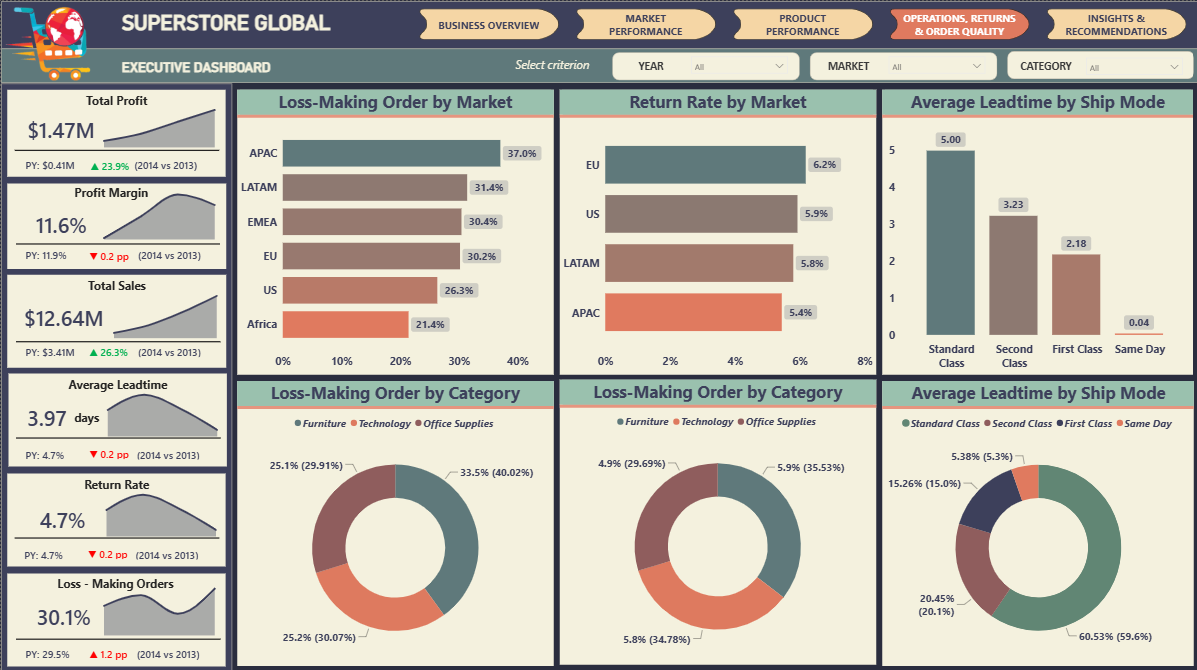

This screenshot's page, from the dashboard's own definition file:
{"tool":"powerbi","page":{"name":"OPERATIONS, RETURNS & ORDER QUALITY","canvas":[1920,1080],"ordinal":3},"visuals":[{"type":"shape","box":[0,0,1920.5,77],"z":0},{"type":"shape","box":[977.5,80.7,300,45],"z":0,"group":"g1"},{"type":"textbox","box":[188.9,0,355.8,75.2],"z":1000,"group":"g13"},{"type":"shape","box":[0,76.7,1920,55],"z":1000},{"type":"textbox","box":[989.7,87.6,100,34.4],"z":1000,"group":"g1"},{"type":"shape","box":[10.2,143.6,349.4,139.3],"z":1000,"group":"g3"},{"type":"shape","box":[10.2,293.1,350.7,137.1],"z":1000,"group":"g4"},{"type":"shape","box":[10,438.8,350.6,148.9],"z":1000,"group":"g10"},{"type":"shape","box":[11.8,595.2,349.4,149.1],"z":1000,"group":"g7"},{"type":"shape","box":[11.5,756.1,349.4,149.1],"z":1000,"group":"g8"},{"type":"shape","box":[10,915.5,349.4,148.8],"z":1000,"group":"g9"},{"type":"slicer","fields":{"Values":["Dim - Date.Year"]},"box":[1094.2,84.3,174.4,36.7],"z":2000,"group":"g1"},{"type":"textbox","box":[818.9,84.4,141.1,40],"z":2000},{"type":"textbox","box":[188.9,77,262.3,55],"z":3000,"group":"g13"},{"type":"shape","box":[1292.8,80.7,300,45],"z":3000,"group":"g1"},{"type":"shape","box":[0,132,370,946],"z":3000},{"type":"group","id":"g1","title":"Group 2","box":[977.5,79.7,932,46],"z":4000},{"type":"textbox","box":[1305.1,86.9,100,34.4],"z":4000,"group":"g1"},{"type":"slicer","fields":{"Values":["Fact - Orders.Market"]},"box":[1409.5,83.6,174.4,36.7],"z":5000,"group":"g1"},{"type":"textbox","box":[10,143.5,350,34.8],"z":5000,"group":"g3"},{"type":"textbox","box":[10,288.6,332.7,41.5],"z":5000,"group":"g4"},{"type":"textbox","box":[10,438.8,350.6,35],"z":5000,"group":"g10"},{"type":"textbox","box":[11.6,595,350,38],"z":5000,"group":"g7"},{"type":"donutChart","title":"Average Leadtime by Ship Mode","fields":{"Category":["Fact - Orders.Ship Mode"],"Y":["Measure.Ship Mode Mix %"]},"box":[1410,608,500,456],"z":5000},{"type":"textbox","box":[11.3,755.9,350,38],"z":5000,"group":"g8"},{"type":"textbox","box":[8.8,915.2,350,35],"z":5000,"group":"g9"},{"type":"shape","box":[1608.8,79.7,300,45],"z":6000,"group":"g1"},{"type":"group","id":"g2","title":"Group 3","box":[10,142.9,350,150],"z":6000},{"type":"group","id":"g3","title":"Group 1","box":[10,142.9,350,140],"z":6000,"group":"g2"},{"type":"group","id":"g4","title":"Group 1","box":[10,288.6,350.9,141.6],"z":6000,"group":"g5"},{"type":"textbox","box":[1621.1,88.3,100,34.4],"z":7000,"group":"g1"},{"type":"group","id":"g5","title":"Group 4","box":[10,288.6,351.4,150],"z":7000},{"type":"slicer","fields":{"Values":["Dim - Product.Category"]},"box":[1725.5,84.9,174.4,36.7],"z":8000,"group":"g1"},{"type":"group","id":"g6","title":"Group 5","box":[10,438.8,351.3,150],"z":8000},{"type":"group","id":"g7","title":"Group 1","box":[11.6,595,350,149.3],"z":9000,"group":"g12"},{"type":"group","id":"g8","title":"Group 1","box":[11.3,755.9,350,149.3],"z":9000,"group":"g11"},{"type":"group","id":"g9","title":"Group 1","box":[8.8,914.3,350.6,150],"z":9000},{"type":"shape","box":[23.8,1007.5,327.5,26.2],"z":10000},{"type":"group","id":"g10","title":"Group 1","box":[10,438.8,350.6,148.9],"z":11000,"group":"g6"},{"type":"cardVisual","fields":{"Data":["Measure.Loss PY Text"]},"box":[10,1007.5,145,70],"z":11000},{"type":"areaChart","fields":{"Category":["Dim - Date.Year Hierarchy.Year"],"Y":["Measure.Total Sales"]},"box":[167,438.9,194.3,106.7],"z":12000,"group":"g6"},{"type":"cardVisual","fields":{"Data":["Measure.Loss YoY Text"]},"box":[111.2,1007.5,143.8,70],"z":12000},{"type":"cardVisual","fields":{"Data":["Measure.Loss Period"]},"box":[187.5,1007.5,163.8,70],"z":13000},{"type":"shape","box":[23.4,378.6,326.7,21.5],"z":14000,"group":"g5"},{"type":"group","id":"g11","title":"Group 3","box":[8.8,755.9,352.5,156.4],"z":14000},{"type":"shape","box":[22.9,229.2,327.1,22],"z":15000,"group":"g2"},{"type":"shape","box":[24.1,533.9,327.1,22.3],"z":15000,"group":"g6"},{"type":"group","id":"g12","title":"Group 3","box":[9.1,595,352.5,156.4],"z":15000},{"type":"areaChart","fields":{"Category":["Dim - Date.Year Hierarchy.Year"],"Y":["Measure.Return Rate %"]},"box":[154.1,600.1,205,100],"z":15000,"group":"g12"},{"type":"areaChart","fields":{"Category":["Dim - Date.Year Hierarchy.Year"],"Y":["Measure.Return Rate %"]},"box":[153.8,761,205,100],"z":15000,"group":"g11"},{"type":"cardVisual","fields":{"Data":["Measure.Total Profit"]},"box":[14.4,168.1,164.3,73.1],"z":16000,"group":"g3"},{"type":"cardVisual","fields":{"Data":["Measure.Profit Margin %"]},"box":[14.4,322.7,165.7,68],"z":16000,"group":"g4"},{"type":"cardVisual","fields":{"Data":["Measure.Total Sales"]},"box":[18.4,467.5,165.7,77.4],"z":16000,"group":"g10"},{"type":"cardVisual","fields":{"Data":["Measure.Average Leadtime"]},"box":[20.9,626.2,103.8,73.8],"z":16000,"group":"g7"},{"type":"textbox","box":[112.5,648.8,58.8,42.5],"z":16000},{"type":"cardVisual","fields":{"Data":["Measure.Return Rate %"]},"box":[19.9,789,161.4,76.9],"z":16000,"group":"g8"},{"type":"cardVisual","fields":{"Data":["Measure.Loss-Making Order %"]},"box":[20,946.7,161.4,76.8],"z":16000,"group":"g9"},{"type":"clusteredBarChart","title":"Loss-Making Order by Market","fields":{"Category":["Fact - Orders.Market"],"Y":["Measure.Loss-Making Order %"]},"box":[378,142,506,456],"z":17000},{"type":"cardVisual","fields":{"Data":["Measure.Margin PY Text"]},"box":[10,375.1,144.5,62.3],"z":18000,"group":"g5"},{"type":"donutChart","title":"Loss-Making Order by Category","fields":{"Category":["Dim - Product.Category"],"Y":["Measure.Loss-Making Order %"]},"box":[378,608,506,456],"z":18000},{"type":"areaChart","fields":{"Category":["Dim - Date.Year Hierarchy.Year"],"Y":["Measure.Total Profit"]},"box":[150.1,142.9,207.1,97.4],"z":18001,"group":"g3"},{"type":"areaChart","fields":{"Category":["Dim - Date.Year Hierarchy.Year"],"Y":["Measure.Profit Margin %"]},"box":[150,292,207.2,95],"z":18001,"group":"g4"},{"type":"areaChart","fields":{"Category":["Dim - Date.Year Hierarchy.Year"],"Y":["Measure.Loss-Making Order %"]},"box":[151.5,914.3,207.1,106.3],"z":18001,"group":"g9"},{"type":"clusteredBarChart","title":"Return Rate by Market","fields":{"Category":["Fact - Orders.Market"],"Y":["Measure.Return Rate %"]},"box":[894,142,506,456],"z":19000},{"type":"cardVisual","fields":{"Data":["Measure.Margin YoY"]},"box":[112.7,374.1,144.5,64.2],"z":19000,"group":"g5"},{"type":"cardVisual","fields":{"Data":["Measure.Profit PY Text"]},"box":[10.9,231.6,144.5,61.3],"z":20000,"group":"g2"},{"type":"cardVisual","fields":{"Data":["Measure.Margin Period"]},"box":[189.1,375.1,163.6,62.3],"z":20000,"group":"g5"},{"type":"donutChart","title":"Loss-Making Order by Category","fields":{"Category":["Dim - Product.Category"],"Y":["Measure.Return Rate %"]},"box":[894,606,506,456],"z":20000},{"type":"clusteredColumnChart","title":"Average Leadtime by Ship Mode","fields":{"Category":["Fact - Orders.Ship Mode"],"Y":["Measure.Average Leadtime"]},"box":[1410,142,498,456],"z":21000},{"type":"cardVisual","fields":{"Data":["Measure.Profit YoY Text"]},"box":[113.6,235,143.6,57.8],"z":21000,"group":"g2"},{"type":"cardVisual","fields":{"Data":["Measure.Sales PY Text"]},"box":[10.9,532.7,144.5,56.1],"z":21000,"group":"g6"},{"type":"shape","box":[22.9,687.6,327.5,22.5],"z":21000,"group":"g12"},{"type":"shape","box":[22.6,848.5,327.5,22.5],"z":21000,"group":"g11"},{"type":"pageNavigator","box":[662,12,1244,50],"z":22000},{"type":"cardVisual","fields":{"Data":["Measure.Profit Period"]},"box":[184.5,233.1,167.3,57.8],"z":22000,"group":"g2"},{"type":"cardVisual","fields":{"Data":["Measure.Sales YoY Text"]},"box":[111.8,532.7,144.5,54.2],"z":22000,"group":"g6"},{"type":"group","id":"g13","title":"Group 4","box":[0,0,544.8,132.1],"z":23000},{"type":"cardVisual","fields":{"Data":["Measure.Sales Period"]},"box":[189.1,532.7,162.7,55.1],"z":23000,"group":"g6"},{"type":"cardVisual","fields":{"Data":["Measure.Return PY Text"]},"box":[9.1,697.6,145,53.8],"z":32000,"group":"g12"},{"type":"cardVisual","fields":{"Data":["Measure.Return PY Text"]},"box":[8.8,858.5,145,53.8],"z":32000,"group":"g11"},{"type":"cardVisual","fields":{"Data":["Measure.Return YoY Text"]},"box":[110.7,697.6,146.2,52.5],"z":33000,"group":"g12"},{"type":"cardVisual","fields":{"Data":["Measure.Return YoY Text"]},"box":[110.4,858.5,146.2,52.5],"z":33000,"group":"g11"},{"type":"image","box":[0,0,188.9,132.1],"z":33001,"group":"g13"},{"type":"cardVisual","fields":{"Data":["Measure.Return Period"]},"box":[186.9,697.6,165,53.8],"z":34000,"group":"g12"},{"type":"cardVisual","fields":{"Data":["Measure.Return Period"]},"box":[186.6,858.5,165,53.8],"z":34000,"group":"g11"}]}

Visuals, with their boxes in screenshot pixels (x1, y1, x2, y2), scaled from the page's 1920x1080 canvas onto the 1197x670 screenshot:
shape: <region>0, 0, 1196, 48</region>
shape: <region>609, 50, 796, 78</region>
textbox: <region>118, 0, 340, 47</region>
shape: <region>0, 48, 1196, 82</region>
textbox: <region>617, 54, 679, 76</region>
shape: <region>6, 89, 224, 176</region>
shape: <region>6, 182, 225, 267</region>
shape: <region>6, 272, 225, 365</region>
shape: <region>7, 369, 225, 462</region>
shape: <region>7, 469, 225, 562</region>
shape: <region>6, 568, 224, 660</region>
slicer - Dim - Date.Year: <region>682, 52, 791, 75</region>
textbox: <region>511, 52, 598, 77</region>
textbox: <region>118, 48, 281, 82</region>
shape: <region>806, 50, 993, 78</region>
shape: <region>0, 82, 231, 669</region>
"Group 2" group: <region>609, 49, 1190, 78</region>
textbox: <region>814, 54, 876, 75</region>
slicer - Fact - Orders.Market: <region>879, 52, 987, 75</region>
textbox: <region>6, 89, 224, 111</region>
textbox: <region>6, 179, 214, 205</region>
textbox: <region>6, 272, 225, 294</region>
textbox: <region>7, 369, 225, 393</region>
"Average Leadtime by Ship Mode" donutChart: <region>879, 377, 1191, 660</region>
textbox: <region>7, 469, 225, 493</region>
textbox: <region>5, 568, 224, 589</region>
shape: <region>1003, 49, 1190, 77</region>
"Group 3" group: <region>6, 89, 224, 182</region>
"Group 1" group: <region>6, 89, 224, 176</region>
"Group 1" group: <region>6, 179, 225, 267</region>
textbox: <region>1011, 55, 1073, 76</region>
"Group 4" group: <region>6, 179, 225, 272</region>
slicer - Dim - Product.Category: <region>1076, 53, 1184, 75</region>
"Group 5" group: <region>6, 272, 225, 365</region>
"Group 1" group: <region>7, 369, 225, 462</region>
"Group 1" group: <region>7, 469, 225, 562</region>
"Group 1" group: <region>5, 567, 224, 660</region>
shape: <region>15, 625, 219, 641</region>
"Group 1" group: <region>6, 272, 225, 365</region>
cardVisual - Measure.Loss PY Text: <region>6, 625, 97, 668</region>
areaChart - Dim - Date.Year Hierarchy.Year x Measure.Total Sales: <region>104, 272, 225, 338</region>
cardVisual - Measure.Loss YoY Text: <region>69, 625, 159, 668</region>
cardVisual - Measure.Loss Period: <region>117, 625, 219, 668</region>
shape: <region>15, 235, 218, 248</region>
"Group 3" group: <region>5, 469, 225, 566</region>
shape: <region>14, 142, 218, 156</region>
shape: <region>15, 331, 219, 345</region>
"Group 3" group: <region>6, 369, 225, 466</region>
areaChart - Dim - Date.Year Hierarchy.Year x Measure.Return Rate %: <region>96, 372, 224, 434</region>
areaChart - Dim - Date.Year Hierarchy.Year x Measure.Return Rate %: <region>96, 472, 224, 534</region>
cardVisual - Measure.Total Profit: <region>9, 104, 111, 150</region>
cardVisual - Measure.Profit Margin %: <region>9, 200, 112, 242</region>
cardVisual - Measure.Total Sales: <region>11, 290, 115, 338</region>
cardVisual - Measure.Average Leadtime: <region>13, 388, 78, 434</region>
textbox: <region>70, 402, 107, 429</region>
cardVisual - Measure.Return Rate %: <region>12, 489, 113, 537</region>
cardVisual - Measure.Loss-Making Order %: <region>12, 587, 113, 635</region>
"Loss-Making Order by Market" clusteredBarChart: <region>236, 88, 551, 371</region>
cardVisual - Measure.Margin PY Text: <region>6, 233, 96, 271</region>
"Loss-Making Order by Category" donutChart: <region>236, 377, 551, 660</region>
areaChart - Dim - Date.Year Hierarchy.Year x Measure.Total Profit: <region>94, 89, 223, 149</region>
areaChart - Dim - Date.Year Hierarchy.Year x Measure.Profit Margin %: <region>94, 181, 223, 240</region>
areaChart - Dim - Date.Year Hierarchy.Year x Measure.Loss-Making Order %: <region>94, 567, 224, 633</region>
"Return Rate by Market" clusteredBarChart: <region>557, 88, 873, 371</region>
cardVisual - Measure.Margin YoY: <region>70, 232, 160, 272</region>
cardVisual - Measure.Profit PY Text: <region>7, 144, 97, 182</region>
cardVisual - Measure.Margin Period: <region>118, 233, 220, 271</region>
"Loss-Making Order by Category" donutChart: <region>557, 376, 873, 659</region>
"Average Leadtime by Ship Mode" clusteredColumnChart: <region>879, 88, 1190, 371</region>
cardVisual - Measure.Profit YoY Text: <region>71, 146, 160, 182</region>
cardVisual - Measure.Sales PY Text: <region>7, 330, 97, 365</region>
shape: <region>14, 427, 218, 441</region>
shape: <region>14, 526, 218, 540</region>
pageNavigator: <region>413, 7, 1188, 38</region>
cardVisual - Measure.Profit Period: <region>115, 145, 219, 180</region>
cardVisual - Measure.Sales YoY Text: <region>70, 330, 160, 364</region>
"Group 4" group: <region>0, 0, 340, 82</region>
cardVisual - Measure.Sales Period: <region>118, 330, 219, 365</region>
cardVisual - Measure.Return PY Text: <region>6, 433, 96, 466</region>
cardVisual - Measure.Return PY Text: <region>5, 533, 96, 566</region>
cardVisual - Measure.Return YoY Text: <region>69, 433, 160, 465</region>
cardVisual - Measure.Return YoY Text: <region>69, 533, 160, 565</region>
image: <region>0, 0, 118, 82</region>
cardVisual - Measure.Return Period: <region>117, 433, 219, 466</region>
cardVisual - Measure.Return Period: <region>116, 533, 219, 566</region>
